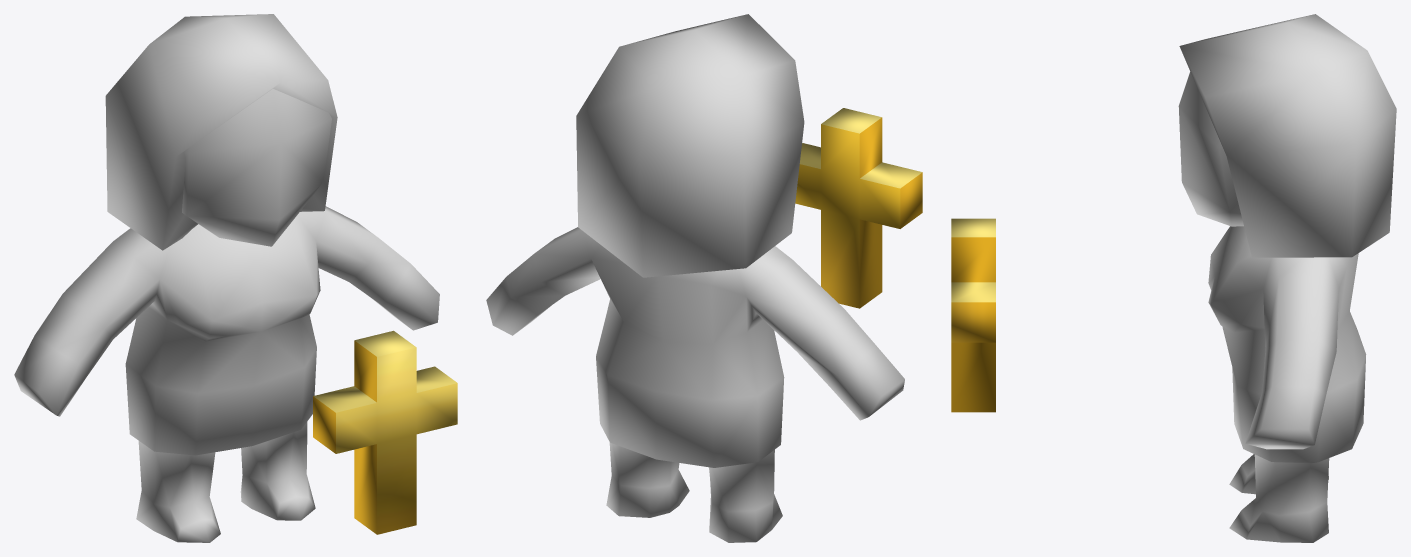
File: BafferSurvivor.fbx
3 views of the same model, side by side, from view 1: azimuth 30°, elevation 25°; view 2: azimuth 150°, elevation 25°; view 3: azimuth 270°, elevation 25° (orthographic).
Visible parts, largest first — view 1: BafferModel, Cube; view 2: BafferModel, Cube; view 3: BafferModel, Cube.
Boxes of the visible parts, left/top/right/bottom form: BafferModel: left=14, top=14, right=439, bottom=542; Cube: left=313, top=330, right=457, bottom=534; BafferModel: left=486, top=14, right=904, bottom=542; Cube: left=795, top=108, right=922, bottom=308; BafferModel: left=1178, top=14, right=1396, bottom=542; Cube: left=951, top=218, right=995, bottom=412.
Bounding box in the file's own units: 0.7435 × 0.8702 × 0.7264.
